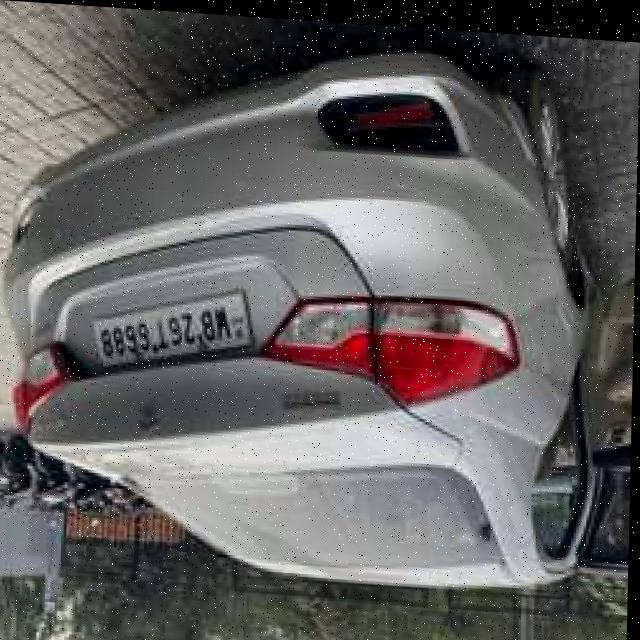plate: (93, 272, 257, 379)
